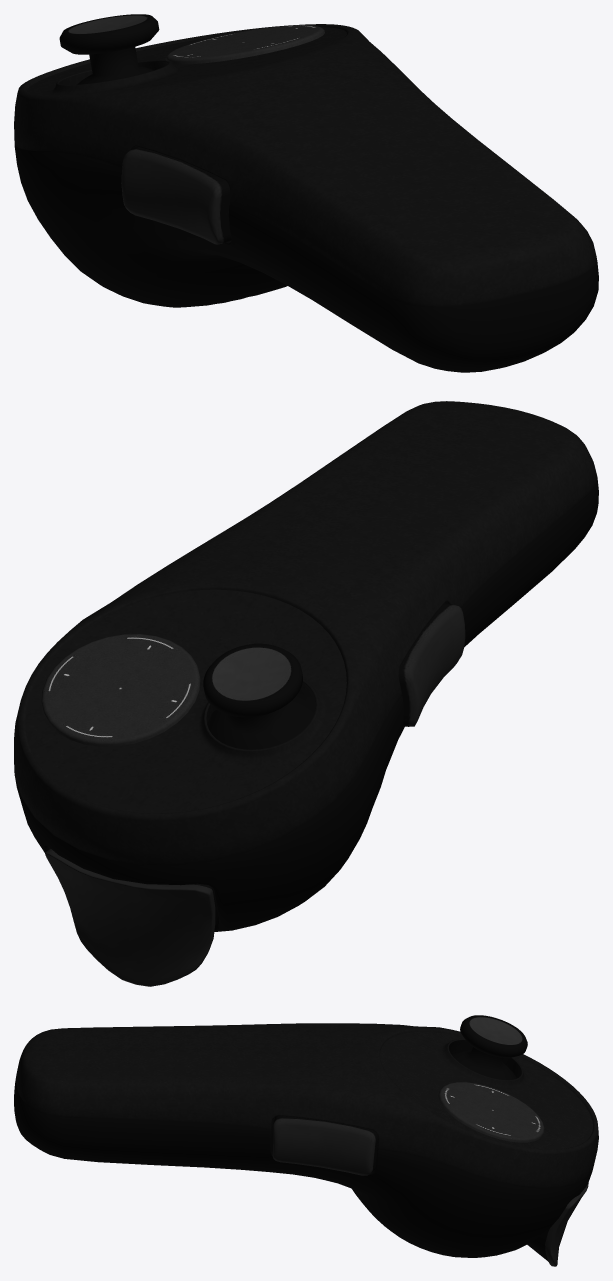
3 views of the same model, one above another, from view 1: azimuth 30°, elevation 25°; view 2: azimuth 150°, elevation 25°; view 3: azimuth 270°, elevation 25° (orthographic). The views are drawn at different scales.
Parts seen in each view (by area): view 1: Body, Grab_L, Plate19, ThumpStick, TouchPad; view 2: Body, Plate19, TouchPad, trigger, ThumpStick, Grab_L; view 3: Body, Plate19, Grab_L, TouchPad, ThumpStick, trigger.
Part boxes in pixels (<box>): Body: <box>14,24,598,372</box>; Grab_L: <box>121,147,231,244</box>; Plate19: <box>26,27,346,95</box>; ThumpStick: <box>59,14,159,84</box>; TouchPad: <box>165,25,324,64</box>; Body: <box>14,401,598,931</box>; Plate19: <box>25,589,346,813</box>; TouchPad: <box>41,634,200,746</box>; trigger: <box>45,849,218,986</box>; ThumpStick: <box>203,643,315,749</box>; Grab_L: <box>399,603,465,726</box>; Body: <box>14,1023,598,1257</box>; Plate19: <box>380,1032,592,1149</box>; Grab_L: <box>272,1115,378,1175</box>; TouchPad: <box>438,1082,544,1142</box>; ThumpStick: <box>452,1015,527,1079</box>; trigger: <box>527,1183,588,1266</box>.
Size of the model in its own units: 0.0572 by 0.0526 by 0.1295.
Materials: 1 (1 with a texture image).
